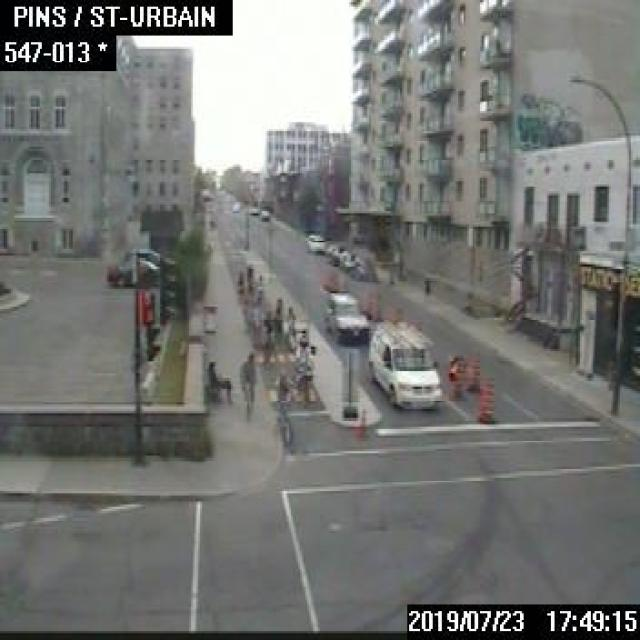construction: (477, 376, 494, 420), (448, 354, 464, 397), (466, 352, 478, 390), (369, 292, 378, 322)
cyclist: (294, 336, 314, 404), (273, 368, 290, 446), (239, 351, 256, 419), (260, 309, 274, 362)
pedestrian: (204, 358, 231, 404), (284, 304, 298, 348), (272, 296, 283, 340), (235, 269, 245, 299), (255, 273, 263, 301), (246, 262, 253, 290)
vehicle: (366, 318, 441, 409), (322, 291, 368, 338), (106, 256, 158, 285), (122, 246, 173, 264), (349, 258, 377, 281), (326, 242, 344, 264), (338, 248, 356, 267), (309, 235, 326, 252), (303, 232, 320, 246), (248, 204, 258, 213), (260, 208, 268, 218)
